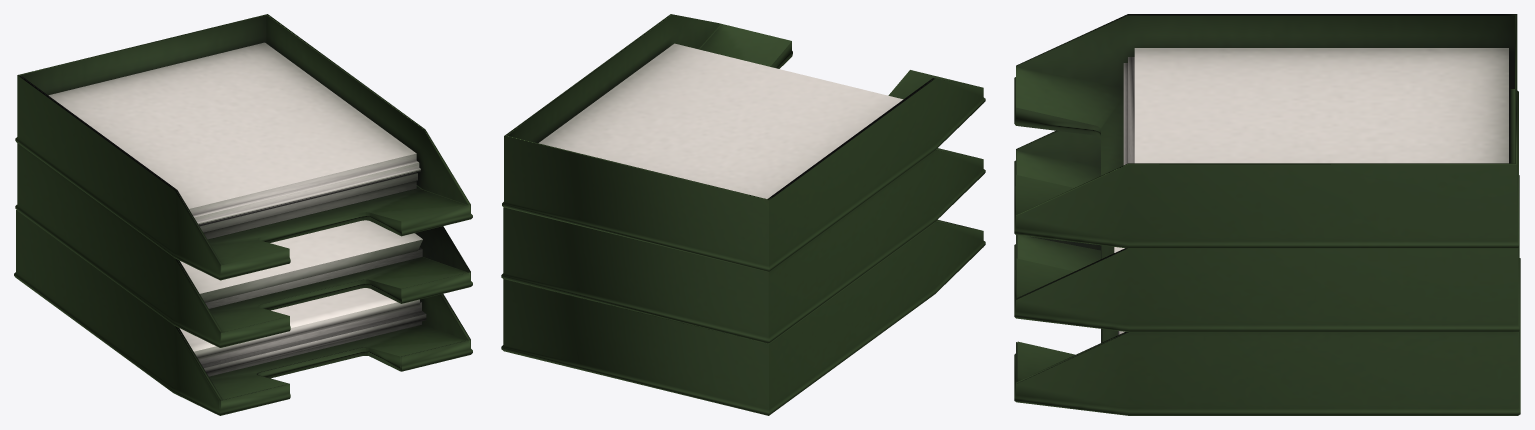
Rendered from ablagefaecher.fbx.
3 renders of one model, left to right at view 1: azimuth 30°, elevation 25°; view 2: azimuth 150°, elevation 25°; view 3: azimuth 270°, elevation 25°, orthographic. The views are drawn at different scales.
Parts seen in each view (by area): view 1: Mesh_ncl1_2, Mesh_ncl1_1, Mesh; view 2: Mesh_ncl1_2, Mesh_ncl1_1, Mesh; view 3: Mesh_ncl1_2, Mesh, Mesh_ncl1_1.
Boxes of the visible parts, <box> form: Mesh_ncl1_2: <box>15,14,472,415</box>; Mesh_ncl1_1: <box>14,210,467,415</box>; Mesh: <box>16,205,472,400</box>; Mesh_ncl1_2: <box>502,14,985,343</box>; Mesh_ncl1_1: <box>502,220,985,415</box>; Mesh: <box>501,148,975,349</box>; Mesh_ncl1_2: <box>1014,14,1518,401</box>; Mesh: <box>1014,131,1519,415</box>; Mesh_ncl1_1: <box>1017,235,1520,414</box>.
Bounding box in the file's own units: 25.1 × 19.19 × 35.12.
